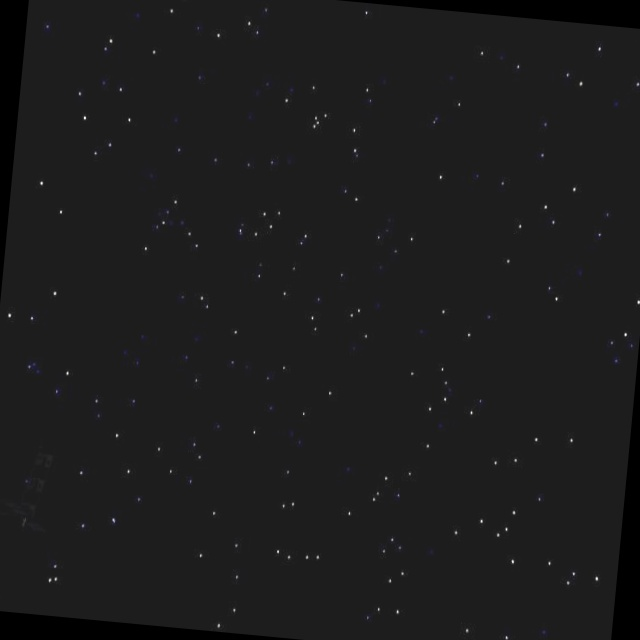medium_debris: (0, 444, 81, 562)
